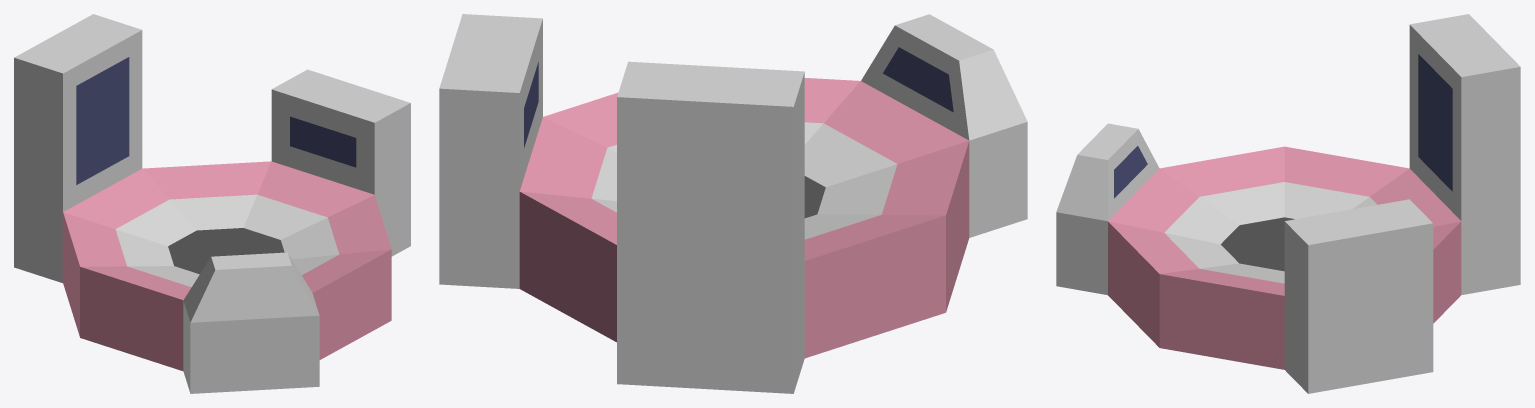
Rendered from mine.fbx.
3 renders of one model, left to right at view 1: azimuth 30°, elevation 25°; view 2: azimuth 150°, elevation 25°; view 3: azimuth 270°, elevation 25°, orthographic. The views are drawn at different scales.
Parts seen in each view (by area): view 1: Mine; view 2: Mine; view 3: Mine.
Part boxes in pixels (x1,y1,x2,y2): Mine: [14, 14, 410, 393]; Mine: [439, 14, 1027, 393]; Mine: [1056, 14, 1520, 393].
Bounding box in the file's own units: 575 × 337 × 651.
